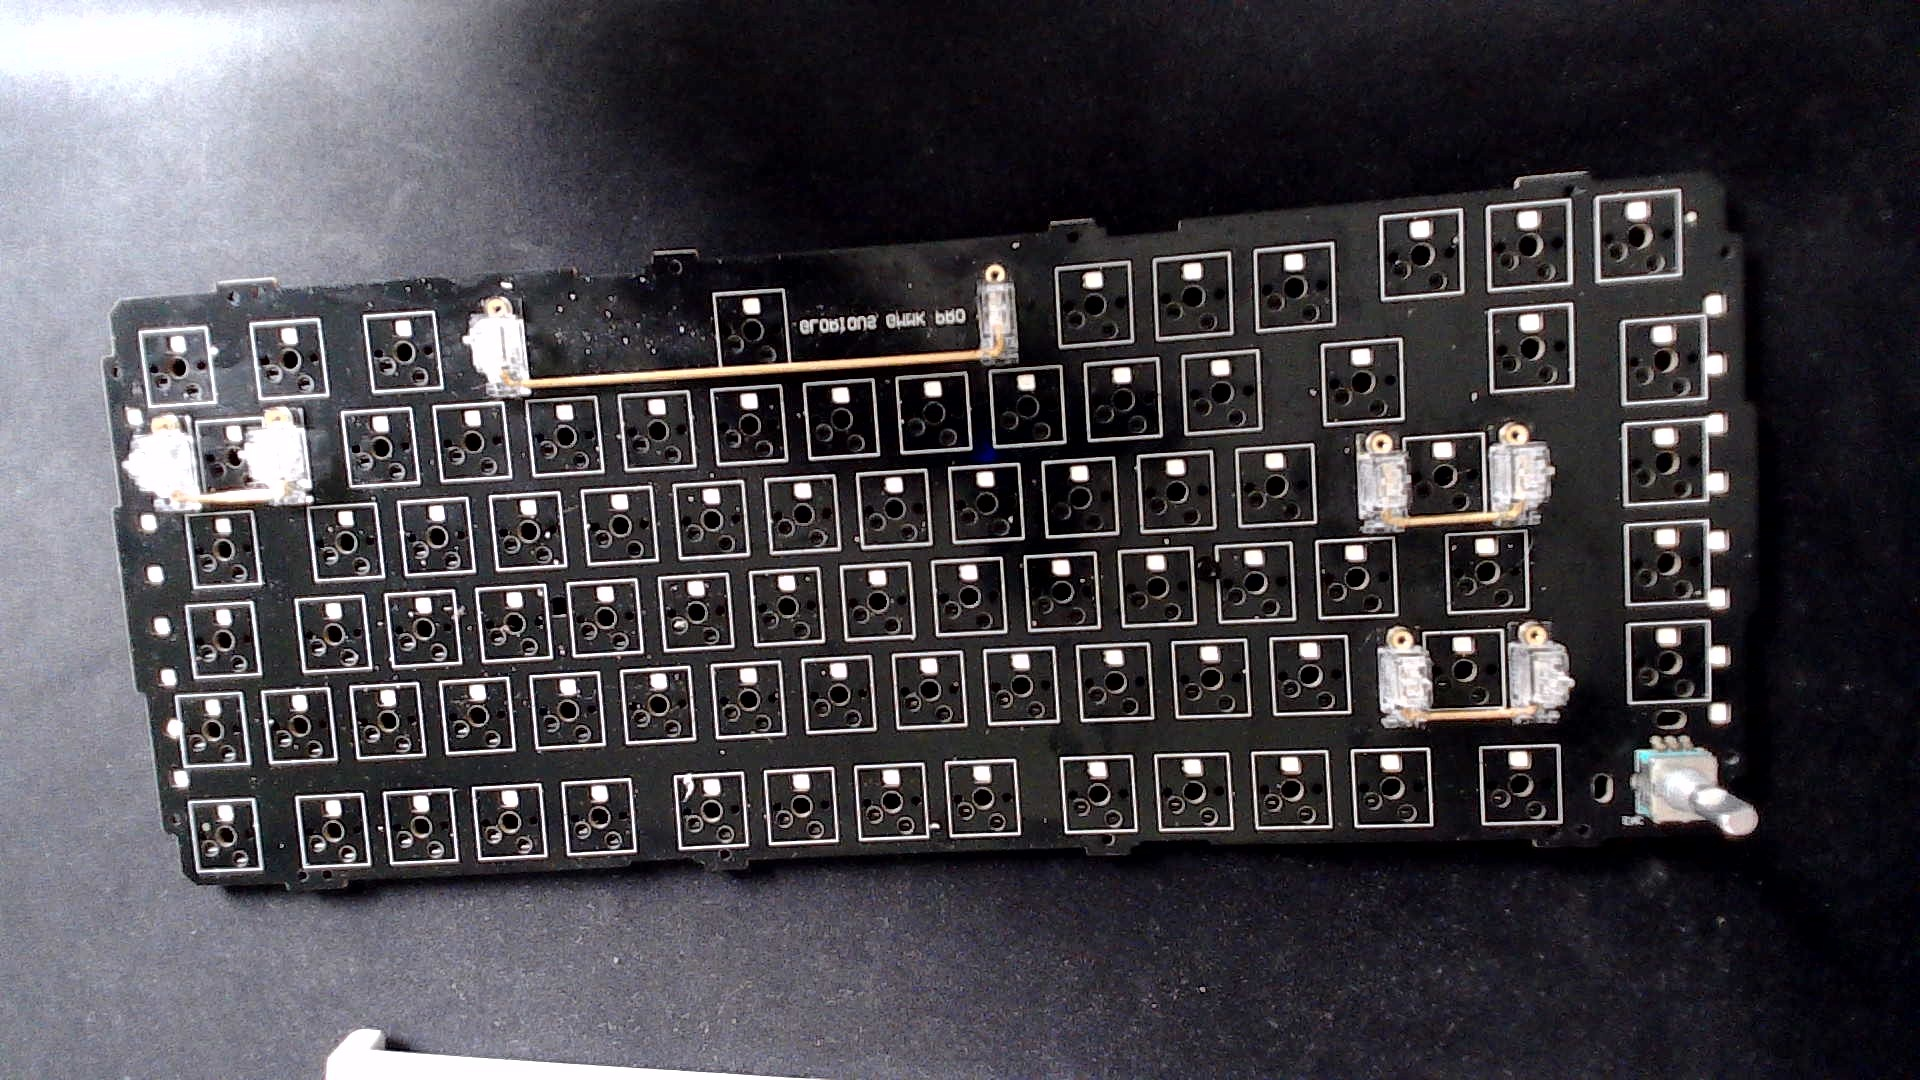pcb: (75, 109, 1795, 942)
